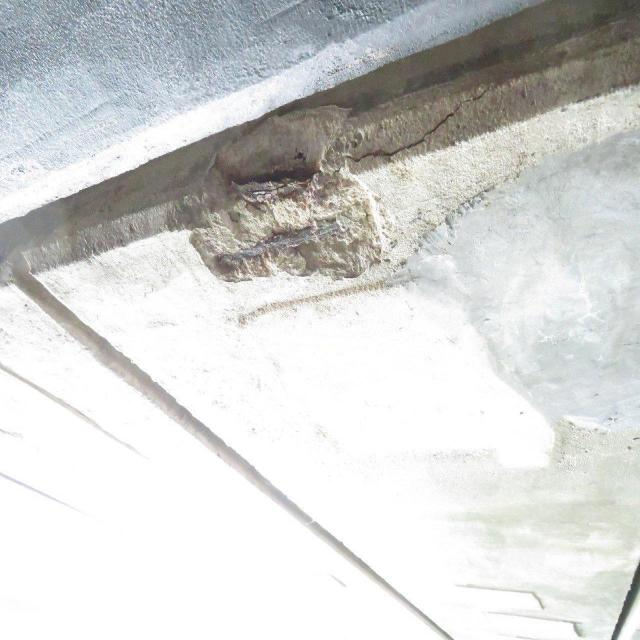Rebar: (182, 100, 386, 287)
diagonal crack: (345, 91, 485, 163)
